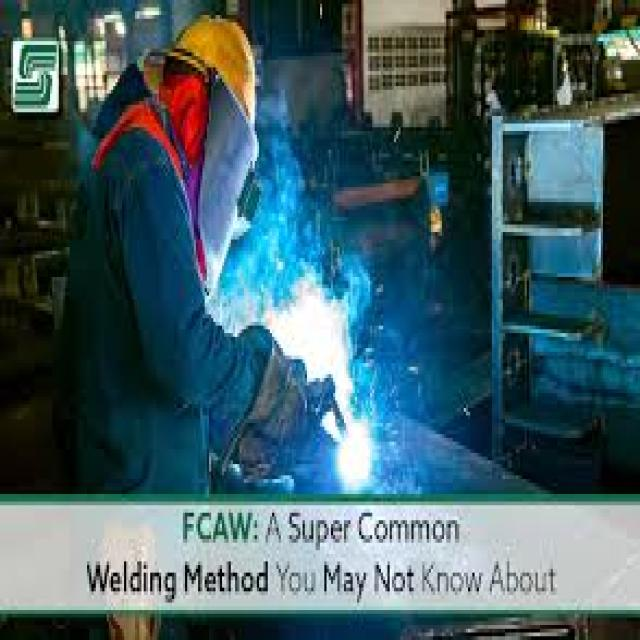welding: (338, 426, 371, 486)
